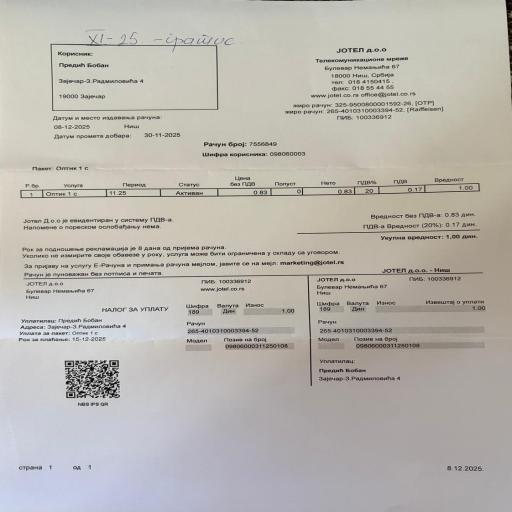jotel: (17, 174, 492, 202)
jotel_uplatnica: (315, 298, 492, 353)
